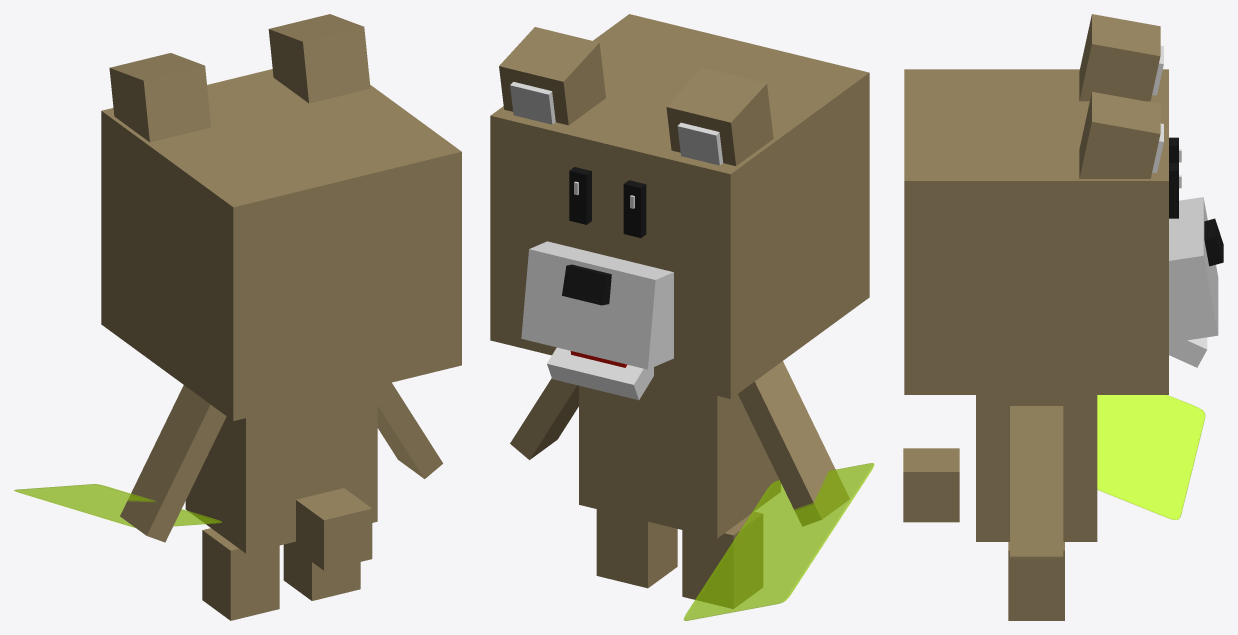
Rendered from kumacchi.fbx.
The picture shows the model from 3 angles, left to right: view 1: azimuth 30°, elevation 25°; view 2: azimuth 150°, elevation 25°; view 3: azimuth 270°, elevation 25°; orthographic projection. The views are drawn at different scales.
Parts seen in each view (by area): view 1: pCube1, pCube3, pCube12, pCube18, pCube10, pCube13, pCube2, pCube15, padPos, pCube14; view 2: pCube1, pCube3, pCube4, padPos, pCube12, pCube18, pCube10, pCube13, pCube14, pCube6, pCube15, pCube5 (+4 smaller); view 3: pCube1, padPos, pCube3, pCube15, pCube18, pCube4, pCube10, pCube2, pCube14, pCube6, pCube5, pCube16.
Boxes of the visible parts, x1,y1,x2,y2 form: pCube1: (101,69,461,420); pCube3: (185,386,377,553); pCube12: (120,385,226,542); pCube18: (268,14,370,103); pCube10: (109,53,211,142); pCube13: (202,528,279,620); pCube2: (296,488,372,570); pCube15: (377,382,442,478); padPos: (14,484,222,527); pCube14: (283,541,360,600); pCube1: (490,14,869,398); pCube3: (579,380,780,538); pCube4: (521,241,673,369); padPos: (683,463,874,620); pCube12: (738,361,849,526); pCube18: (499,27,605,125); pCube10: (666,67,773,165); pCube13: (682,512,762,608); pCube14: (596,509,677,588); pCube6: (547,347,653,400); pCube15: (510,378,578,459); pCube5: (562,264,611,305); pCube1: (904,69,1168,394); padPos: (1097,395,1205,519); pCube3: (976,395,1097,541); pCube15: (1010,406,1063,558); pCube18: (1079,92,1160,178); pCube4: (1169,197,1218,342); pCube10: (1079,14,1160,101); pCube2: (903,448,959,522); pCube14: (1008,542,1064,620); pCube6: (1169,337,1207,367); pCube5: (1204,218,1223,266); pCube16: (1169,163,1178,218).
Bounding box in the file's own units: 4.32 × 6.43 × 3.58.
